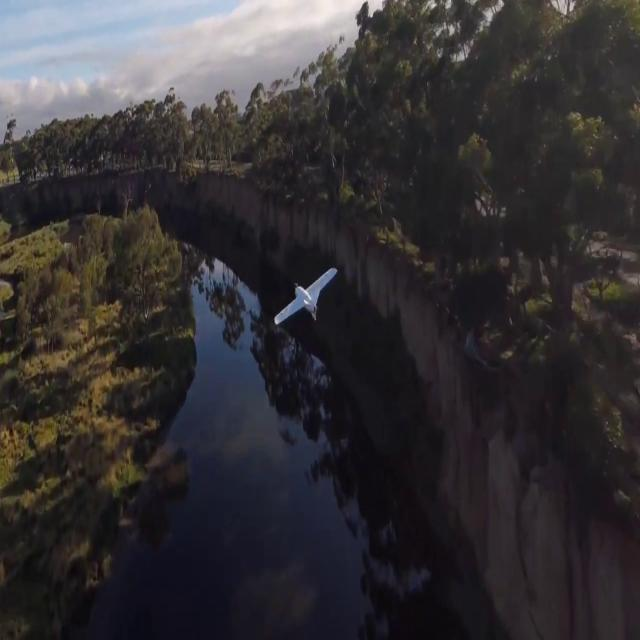iha: (273, 267, 337, 329)
